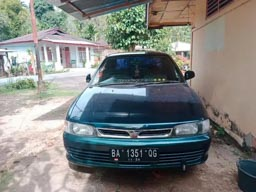plat: (110, 148, 159, 157)
